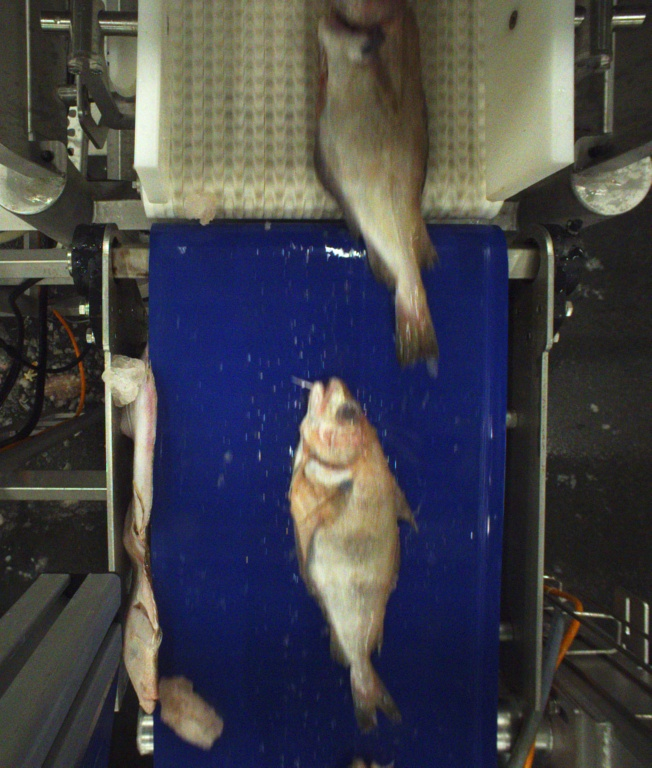BIB: (284, 375, 401, 731)
